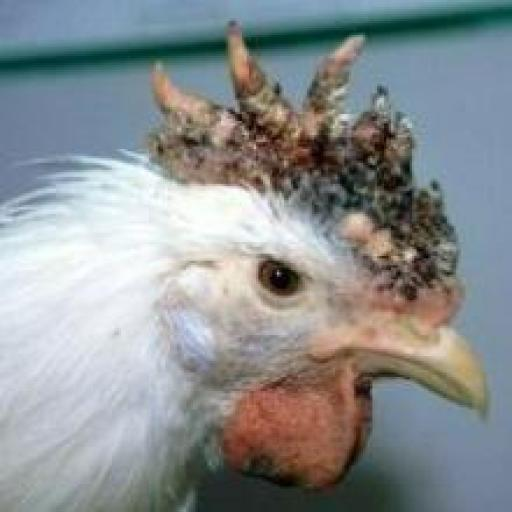disease: (142, 52, 474, 294), (231, 447, 316, 489)
